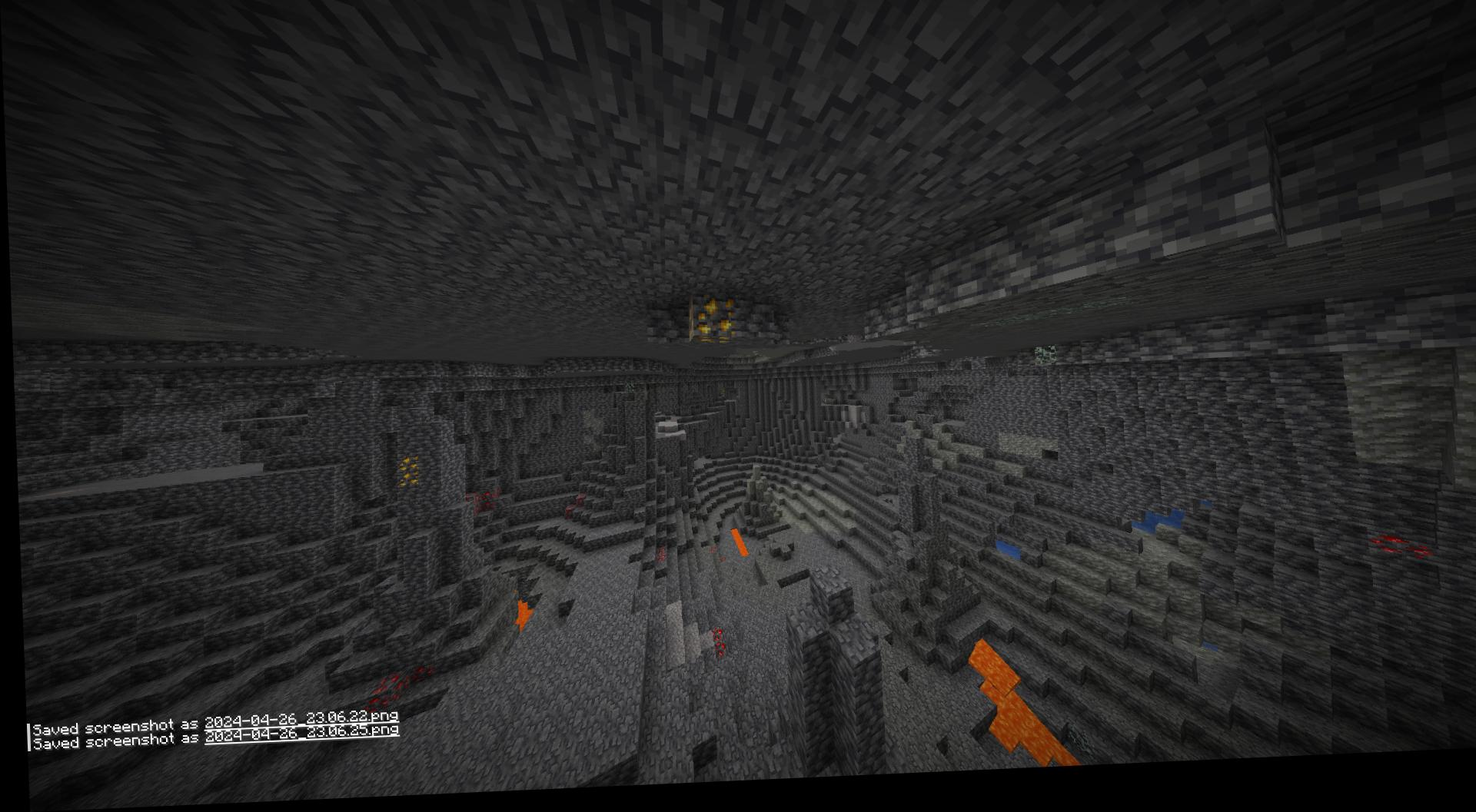gold ore: (688, 299, 732, 348), (392, 460, 418, 495)
redstone ore: (1367, 538, 1431, 588), (359, 669, 432, 708), (461, 491, 499, 518), (555, 495, 587, 520), (704, 629, 726, 664), (651, 545, 666, 572)
